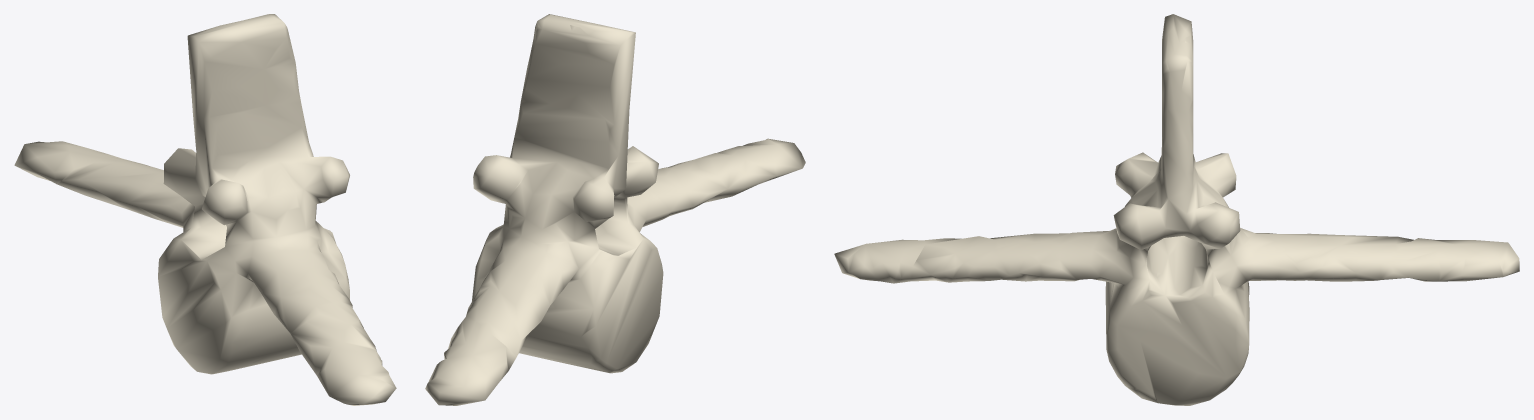
Rendered from lumbar_5.glb.
3 views of the same model, side by side, from view 1: azimuth 30°, elevation 25°; view 2: azimuth 150°, elevation 25°; view 3: azimuth 270°, elevation 25° (orthographic).
Visible parts, largest first — view 1: geometry_0; view 2: geometry_0; view 3: geometry_0.
Boxes of the visible parts, x1,y1,x2,y2 form: geometry_0: (14, 14, 396, 405); geometry_0: (425, 14, 805, 405); geometry_0: (834, 14, 1519, 405).
Bounding box in the file's own units: 0.158 × 0.33 × 0.6111.
